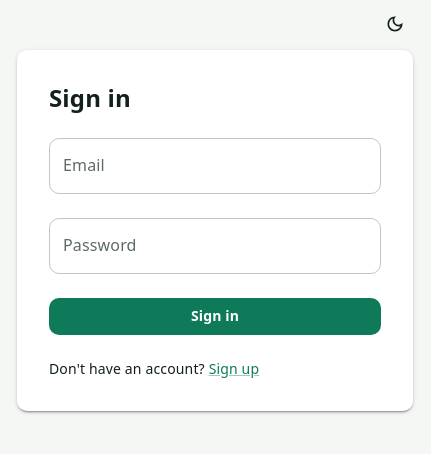
App routing + auth › blocks submitting an invalid email and shows a validation message
In the field labelled "Email": (215, 166) [49, 138, 381, 194], type "not-an-email"
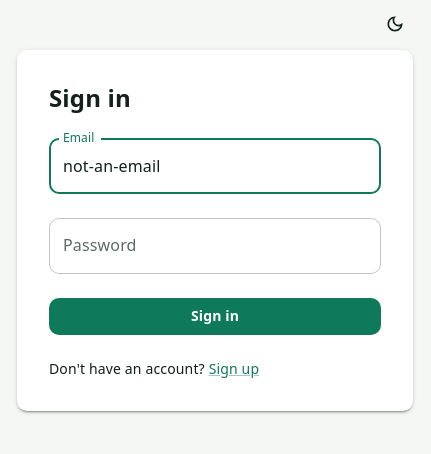
In the password field labelled "Password": (215, 246) [49, 218, 381, 274], type "whatever"
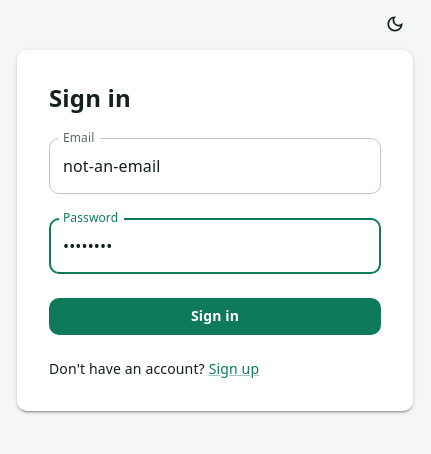
Click the button "Sign in": (215, 317) [49, 298, 381, 335]
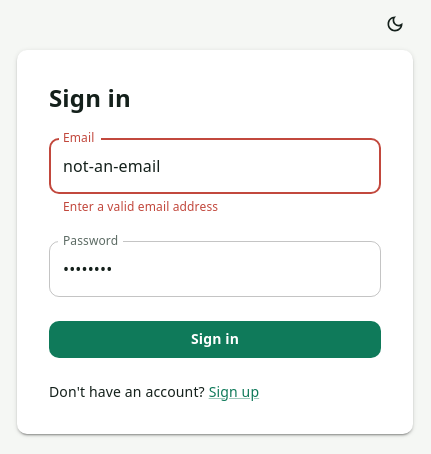
Now the text "Enter a valid email address" is shown, box [63, 198, 218, 215]
